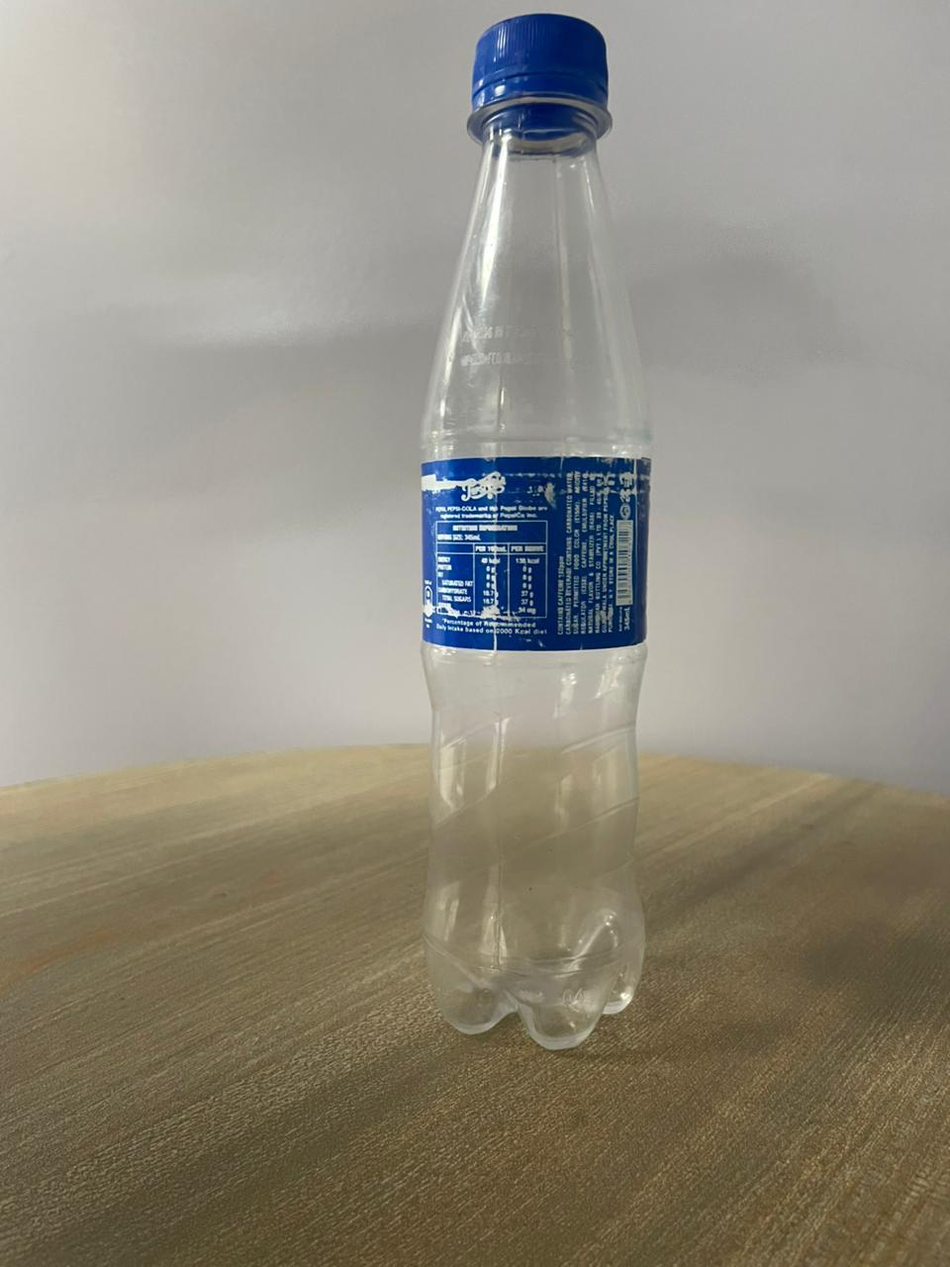Pepsi Bottle: (416, 5, 669, 1053), (416, 5, 665, 1049)
